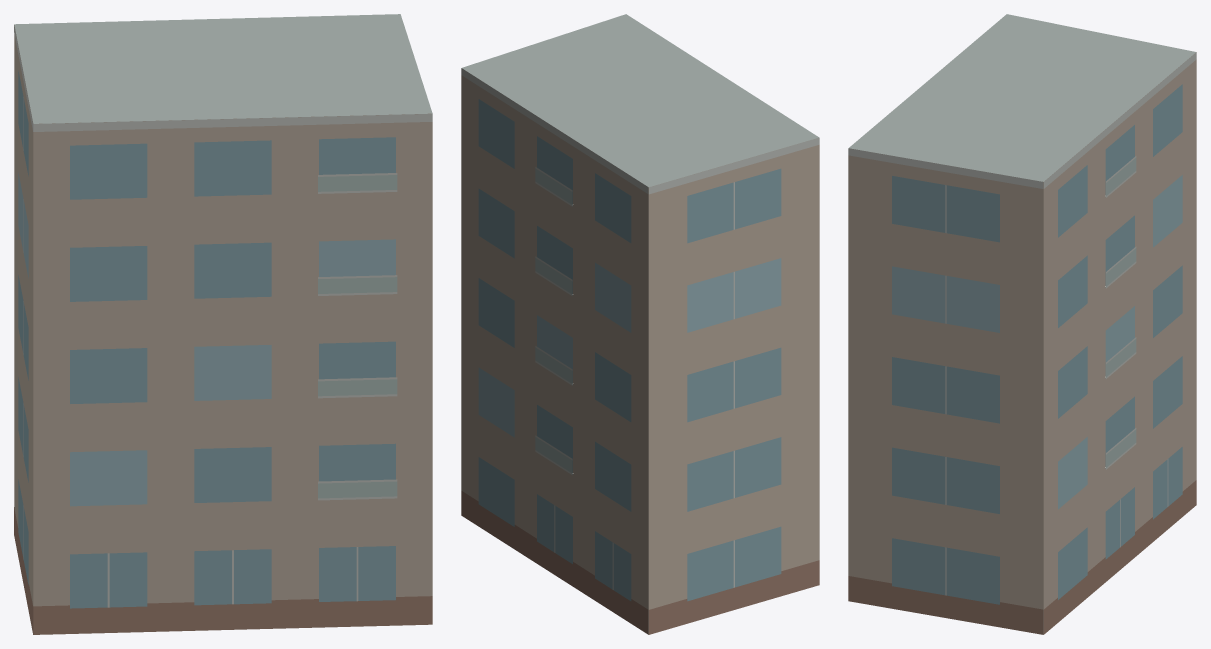
Rendered from residential-99c02c28-844e-4ab2-a68c-e6563e8efd50.glb.
The picture shows the model from 3 angles, left to right: view 1: azimuth 30°, elevation 25°; view 2: azimuth 150°, elevation 25°; view 3: azimuth 270°, elevation 25°; orthographic projection. The views are drawn at different scales.
Visible parts, largest first — view 1: residential-99c02c28-844e-4ab2-a68c-e6563e8efd50.tmp; view 2: residential-99c02c28-844e-4ab2-a68c-e6563e8efd50.tmp; view 3: residential-99c02c28-844e-4ab2-a68c-e6563e8efd50.tmp.
Boxes of the visible parts, left/top/right/bottom form: residential-99c02c28-844e-4ab2-a68c-e6563e8efd50.tmp: left=14, top=14, right=432, bottom=634; residential-99c02c28-844e-4ab2-a68c-e6563e8efd50.tmp: left=461, top=14, right=819, bottom=634; residential-99c02c28-844e-4ab2-a68c-e6563e8efd50.tmp: left=848, top=14, right=1196, bottom=634.
Bounding box in the file's own units: 12.13 × 15.25 × 10.63.
